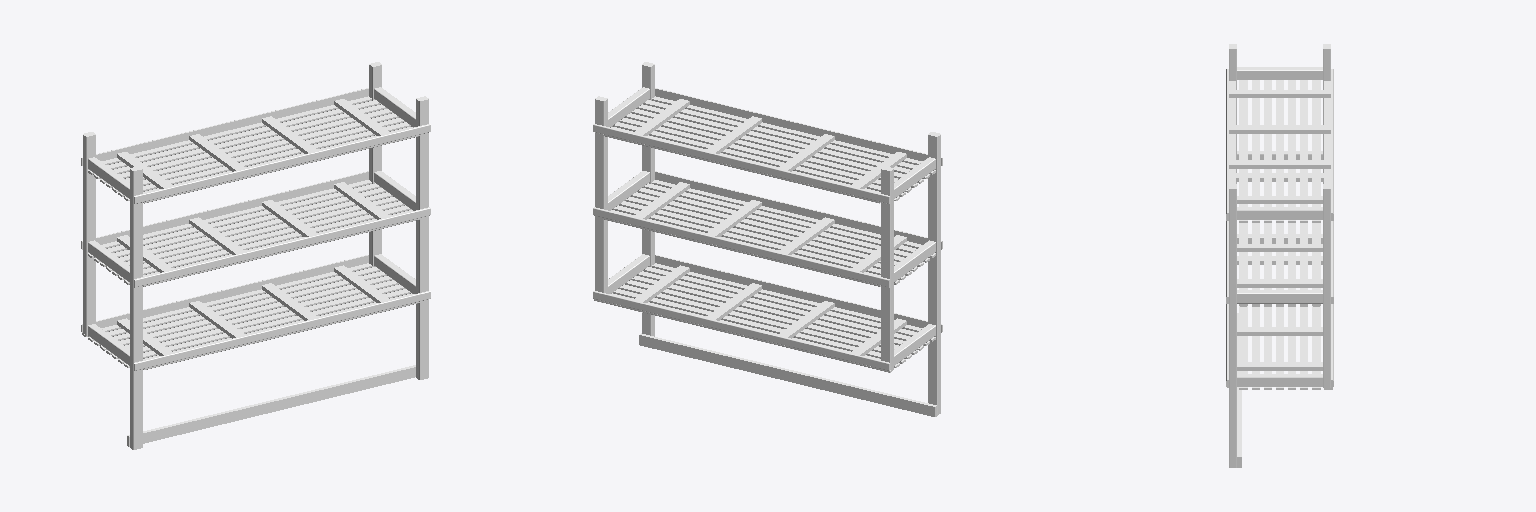
Rendered from shelf.obj.
3 renders of one model, left to right at view 1: azimuth 30°, elevation 25°; view 2: azimuth 150°, elevation 25°; view 3: azimuth 270°, elevation 25°, orthographic.
Visible parts, largest first — view 1: |Полка|Root|Перекладина_-_рейка_строительная_15х30х2000_(сосна)-, |Полка|Root|Ножка_-_Брус_30х40х2000_(сосна)-6|polished_pine_2d_[, |Полка|Root|Ножка_-_Брус_30х40х2000_(сосна)-7|polished_pine_2d_[, |Полка|Root|Полка_длинная_-_Нащельник_45х8х2200-2400_(сосна)-7_3, |Полка|Root|Полка_длинная_-_Нащельник_45х8х2200-2400_(сосна)-7|p, |Полка|Root|Полка_длинная_-_Нащельник_45х8х2200-2400_(сосна)-7_2, |Полка|Root|Полка_длинная_-_Нащельник_45х8х2200-2400_(сосна)-10_, |Полка|Root|Ножка_-_Брус_30х40х2000_(сосна)-5|polished_pine_2d_[, |Полка|Root|Полка_длинная_-_Нащельник_45х8х2200-2400_(сосна)-6|p, |Полка|Root|Полка_длинная_-_Нащельник_45х8х2200-2400_(сосна)-6_2, |Полка|Root|Полка_длинная_-_Нащельник_45х8х2200-2400_(сосна)-6_3, |Полка|Root|Полка_короткая_-_Нащельник_45х8х2200-2400_(сосна)-1_ (+25 smaller); view 2: |Полка|Root|Перекладина_-_рейка_строительная_15х30х2000_(сосна)-, |Полка|Root|Ножка_-_Брус_30х40х2000_(сосна)-6|polished_pine_2d_[, |Полка|Root|Полка_длинная_-_Нащельник_45х8х2200-2400_(сосна)-6_3, |Полка|Root|Полка_длинная_-_Нащельник_45х8х2200-2400_(сосна)-6|p, |Полка|Root|Полка_длинная_-_Нащельник_45х8х2200-2400_(сосна)-6_2, |Полка|Root|Полка_длинная_-_Нащельник_45х8х2200-2400_(сосна)-10_, |Полка|Root|Ножка_-_Брус_30х40х2000_(сосна)-5|polished_pine_2d_[, |Полка|Root|Ножка_-_Брус_30х40х2000_(сосна)-8|polished_pine_2d_[, |Полка|Root|Полка_длинная_-_Нащельник_45х8х2200-2400_(сосна)-7|p, |Полка|Root|Полка_короткая_-_Нащельник_45х8х2200-2400_(сосна)-2_, |Полка|Root|Полка_длинная_-_Нащельник_45х8х2200-2400_(сосна)-7_2, |Полка|Root|Полка_длинная_-_Нащельник_45х8х2200-2400_(сосна)-7_3 (+25 smaller); view 3: |Полка|Root|Перекладина_-_рейка_строительная_15х30х2000_(сосна)-, |Полка|Root|Ножка_-_Брус_30х40х2000_(сосна)-7|polished_pine_2d_[, |Полка|Root|Ножка_-_Брус_30х40х2000_(сосна)-8|polished_pine_2d_[, |Полка|Root|Перекладина_-_Брус_30х40х2000_(сосна)-4|polished_pin, |Полка|Root|Перекладина_-_Брус_30х40х2000_(сосна)-1|polished_pin, |Полка|Root|Перекладина_-_Брус_30х40х2000_(сосна)-2|polished_pin, |Полка|Root|Перекладина_-_Брус_30х40х2000_(сосна)-6|polished_pin, |Полка|Root|Полка_длинная_-_Нащельник_45х8х2200-2400_(сосна)-3|p, |Полка|Root|Полка_длинная_-_Нащельник_45х8х2200-2400_(сосна)-8|p, |Полка|Root|Полка_длинная_-_Нащельник_45х8х2200-2400_(сосна)-10_, |Полка|Root|Полка_длинная_-_Нащельник_45х8х2200-2400_(сосна)-2|p, |Полка|Root|Полка_длинная_-_Нащельник_45х8х2200-2400_(сосна)-4|p (+5 smaller).
Part boxes in pixels (left/top/right/bottom): |Полка|Root|Перекладина_-_рейка_строительная_15х30х2000_(сосна)-: left=117, top=99, right=415, bottom=446; |Полка|Root|Ножка_-_Брус_30х40х2000_(сосна)-6|polished_pine_2d_[: left=130, top=166, right=142, bottom=449; |Полка|Root|Ножка_-_Брус_30х40х2000_(сосна)-7|polished_pine_2d_[: left=416, top=96, right=428, bottom=379; |Полка|Root|Полка_длинная_-_Нащельник_45х8х2200-2400_(сосна)-7_3: left=134, top=291, right=430, bottom=370; |Полка|Root|Полка_длинная_-_Нащельник_45х8х2200-2400_(сосна)-7|p: left=134, top=124, right=430, bottom=203; |Полка|Root|Полка_длинная_-_Нащельник_45х8х2200-2400_(сосна)-7_2: left=134, top=207, right=430, bottom=287; |Полка|Root|Полка_длинная_-_Нащельник_45х8х2200-2400_(сосна)-10_: left=100, top=192, right=393, bottom=350; |Полка|Root|Ножка_-_Брус_30х40х2000_(сосна)-5|polished_pine_2d_[: left=83, top=132, right=95, bottom=335; |Полка|Root|Полка_длинная_-_Нащельник_45х8х2200-2400_(сосна)-6|p: left=81, top=88, right=368, bottom=165; |Полка|Root|Полка_длинная_-_Нащельник_45х8х2200-2400_(сосна)-6_2: left=81, top=171, right=368, bottom=249; |Полка|Root|Полка_длинная_-_Нащельник_45х8х2200-2400_(сосна)-6_3: left=81, top=255, right=368, bottom=332; |Полка|Root|Полка_короткая_-_Нащельник_45х8х2200-2400_(сосна)-1_: left=102, top=180, right=371, bottom=331; |Полка|Root|Перекладина_-_рейка_строительная_15х30х2000_(сосна)-: left=633, top=99, right=936, bottom=416; |Полка|Root|Ножка_-_Брус_30х40х2000_(сосна)-6|polished_pine_2d_[: left=928, top=132, right=940, bottom=415; |Полка|Root|Полка_длинная_-_Нащельник_45х8х2200-2400_(сосна)-6_3: left=593, top=291, right=889, bottom=370; |Полка|Root|Полка_длинная_-_Нащельник_45х8х2200-2400_(сосна)-6|p: left=593, top=124, right=889, bottom=203; |Полка|Root|Полка_длинная_-_Нащельник_45х8х2200-2400_(сосна)-6_2: left=593, top=207, right=889, bottom=287; |Полка|Root|Полка_длинная_-_Нащельник_45х8х2200-2400_(сосна)-10_: left=619, top=201, right=911, bottom=358; |Полка|Root|Ножка_-_Брус_30х40х2000_(сосна)-5|polished_pine_2d_[: left=881, top=166, right=893, bottom=369; |Полка|Root|Ножка_-_Брус_30х40х2000_(сосна)-8|polished_pine_2d_[: left=595, top=96, right=607, bottom=293; |Полка|Root|Полка_длинная_-_Нащельник_45х8х2200-2400_(сосна)-7|p: left=655, top=88, right=942, bottom=165; |Полка|Root|Полка_короткая_-_Нащельник_45х8х2200-2400_(сосна)-2_: left=652, top=180, right=922, bottom=331; |Полка|Root|Полка_длинная_-_Нащельник_45х8х2200-2400_(сосна)-7_2: left=655, top=171, right=942, bottom=249; |Полка|Root|Полка_длинная_-_Нащельник_45х8х2200-2400_(сосна)-7_3: left=655, top=255, right=942, bottom=332; |Полка|Root|Перекладина_-_рейка_строительная_15х30х2000_(сосна)-: left=1229, top=90, right=1330, bottom=467; |Полка|Root|Ножка_-_Брус_30х40х2000_(сосна)-7|polished_pine_2d_[: left=1229, top=184, right=1236, bottom=467; |Полка|Root|Ножка_-_Брус_30х40х2000_(сосна)-8|polished_pine_2d_[: left=1323, top=184, right=1330, bottom=387; |Полка|Root|Перекладина_-_Брус_30х40х2000_(сосна)-4|polished_pin: left=1237, top=290, right=1322, bottom=303; |Полка|Root|Перекладина_-_Брус_30х40х2000_(сосна)-1|polished_pin: left=1237, top=67, right=1322, bottom=79; |Полка|Root|Перекладина_-_Брус_30х40х2000_(сосна)-2|polished_pin: left=1237, top=207, right=1322, bottom=219; |Полка|Root|Перекладина_-_Брус_30х40х2000_(сосна)-6|polished_pin: left=1237, top=374, right=1322, bottom=386; |Полка|Root|Полка_длинная_-_Нащельник_45х8х2200-2400_(сосна)-3|p: left=1239, top=80, right=1247, bottom=222; |Полка|Root|Полка_длинная_-_Нащельник_45х8х2200-2400_(сосна)-8|p: left=1312, top=80, right=1320, bottom=222; |Полка|Root|Полка_длинная_-_Нащельник_45х8х2200-2400_(сосна)-10_: left=1288, top=223, right=1295, bottom=389; |Полка|Root|Полка_длинная_-_Нащельник_45х8х2200-2400_(сосна)-2|p: left=1252, top=80, right=1259, bottom=222; |Полка|Root|Полка_длинная_-_Нащельник_45х8х2200-2400_(сосна)-4|p: left=1264, top=80, right=1271, bottom=222.
Bounding box in the file's own units: 1.2 × 1.08 × 0.376.